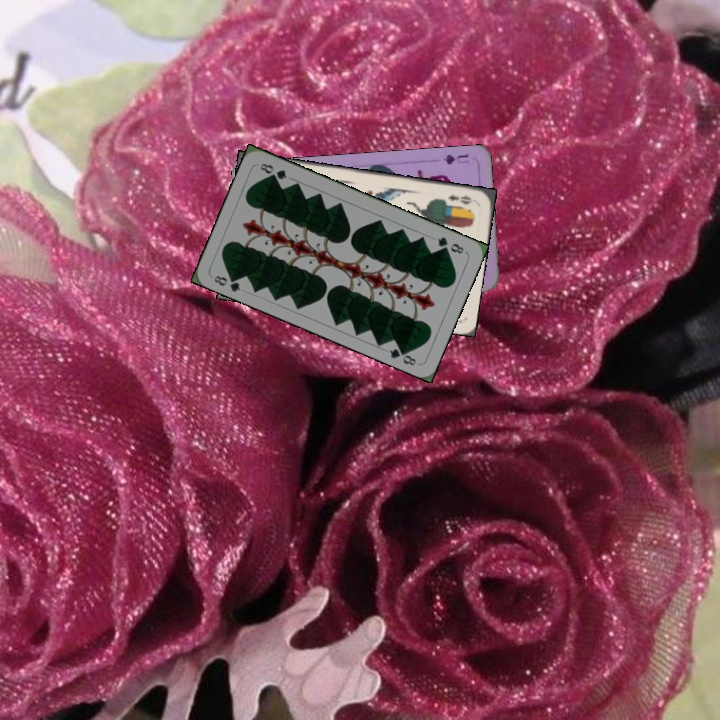EO: (444, 190, 474, 207)
G8: (433, 233, 468, 256), (210, 271, 243, 295)
GU: (439, 150, 472, 167)
